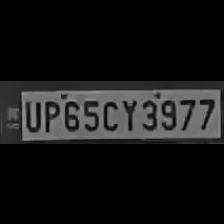3: (140, 96, 156, 130)
5: (80, 96, 100, 130)
6: (60, 97, 80, 130)
7: (196, 95, 214, 129), (178, 95, 195, 129)
9: (158, 96, 176, 130)
C: (100, 96, 118, 130)
P: (41, 97, 59, 131)
U: (22, 97, 41, 130)
Y: (120, 96, 136, 130)
